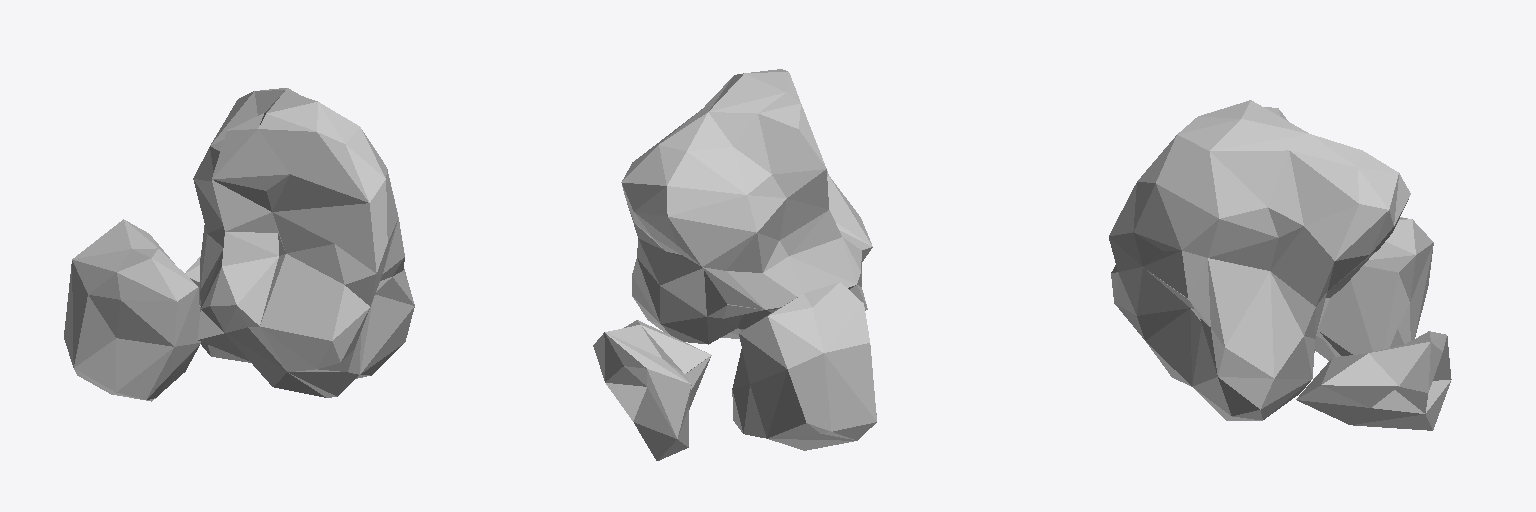
The model's file is EarthSpell.obj.
3 views of the same model, side by side, from view 1: azimuth 30°, elevation 25°; view 2: azimuth 150°, elevation 25°; view 3: azimuth 270°, elevation 25° (orthographic).
Visible parts, largest first — view 1: Cube.001_Cube.002; view 2: Cube.001_Cube.002; view 3: Cube.001_Cube.002.
Part boxes in pixels (left/top/right/bottom): Cube.001_Cube.002: left=64, top=88, right=414, bottom=401; Cube.001_Cube.002: left=593, top=69, right=876, bottom=460; Cube.001_Cube.002: left=1109, top=100, right=1451, bottom=430.
Size of the model in its own units: 2.75 by 2.85 by 2.8.